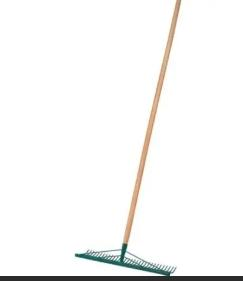RATEAU: (70, 0, 243, 281)
